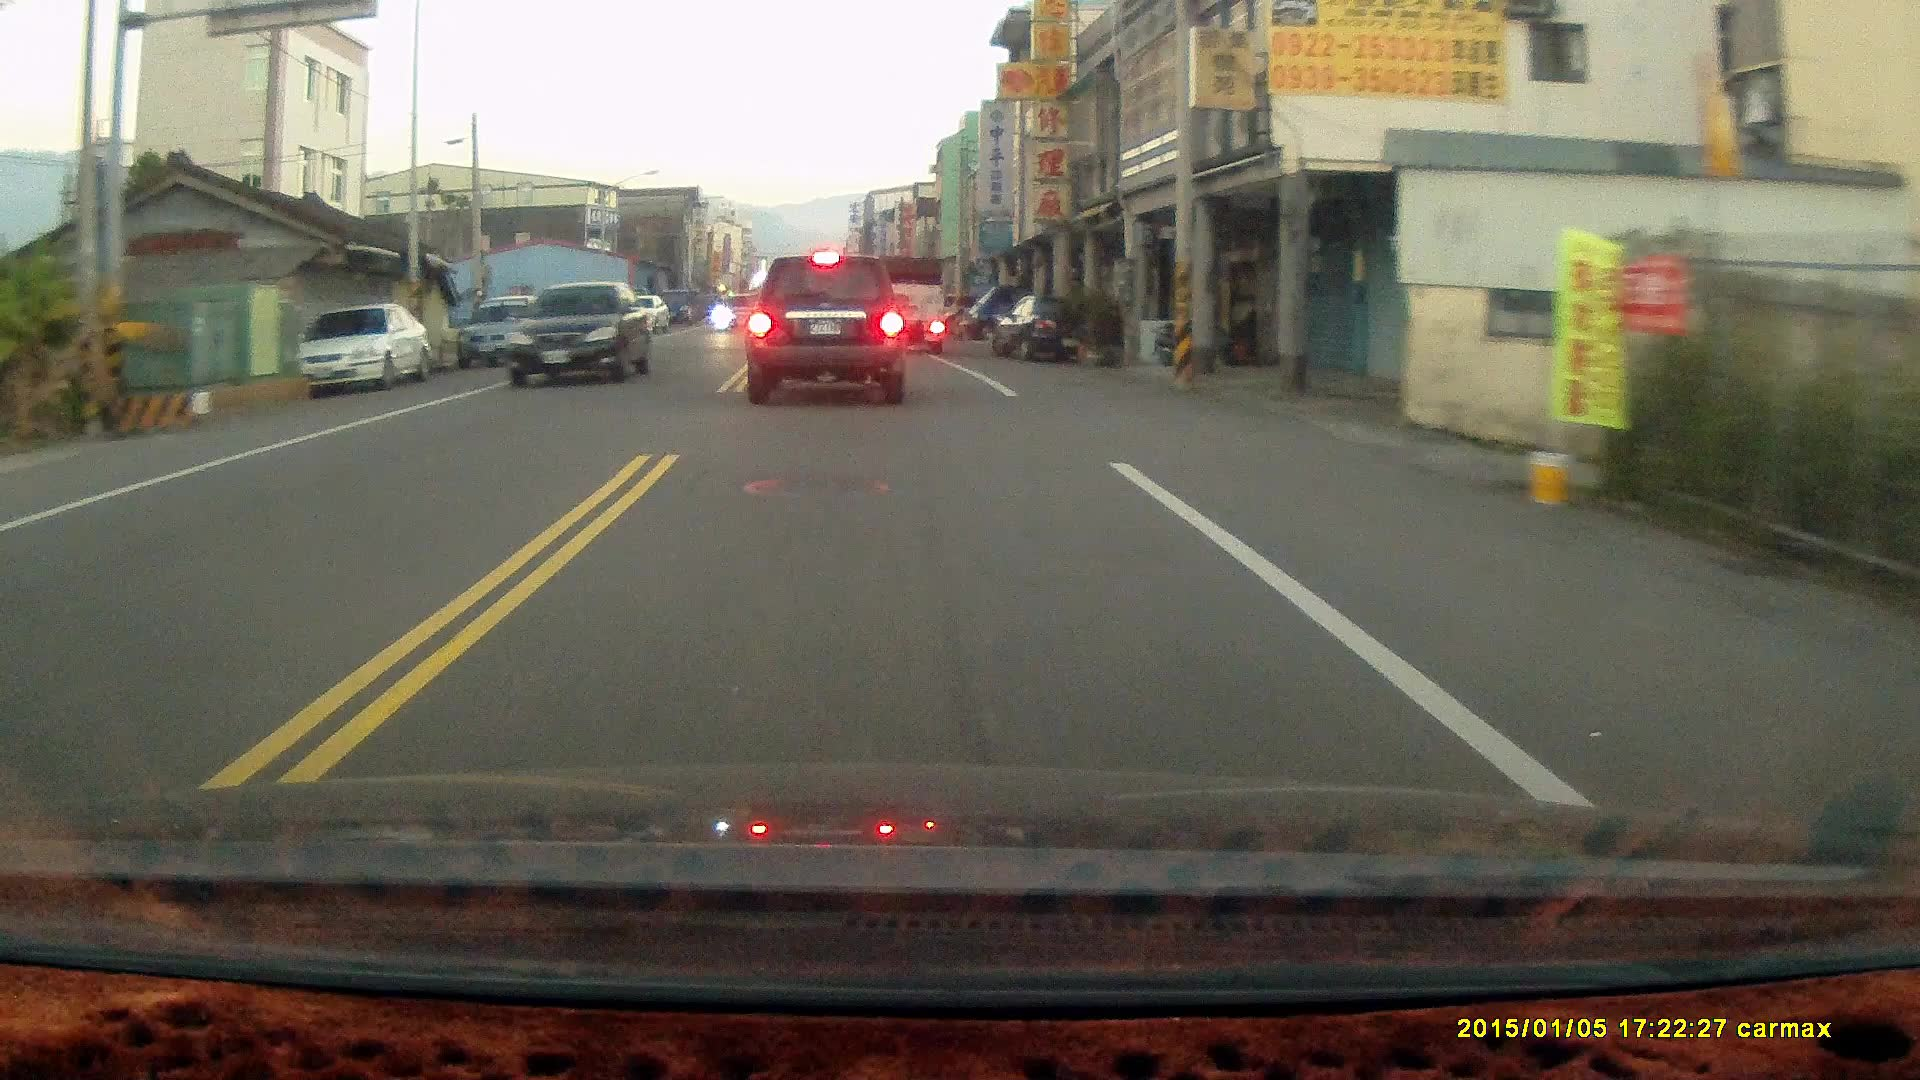vehicle: (748, 249, 914, 405), (509, 282, 655, 386), (297, 299, 434, 386), (998, 291, 1110, 363), (872, 255, 949, 355), (464, 291, 563, 367), (615, 295, 673, 334)
